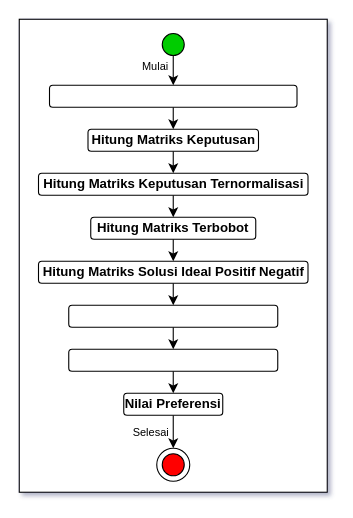
Some shapes in this 353 by 518 pixel diagram are drawn without their labels. The box of each missing label's shape, as (x1, y1, x2, y2) in pixels:
Penentuan Jarak Solusi Negatif: (68, 304, 278, 327)
Penentuan Jarak Solusi Positif: (68, 348, 278, 371)
Tampil Kriteria Mahasiswa Berprestasi: (48, 84, 297, 107)
